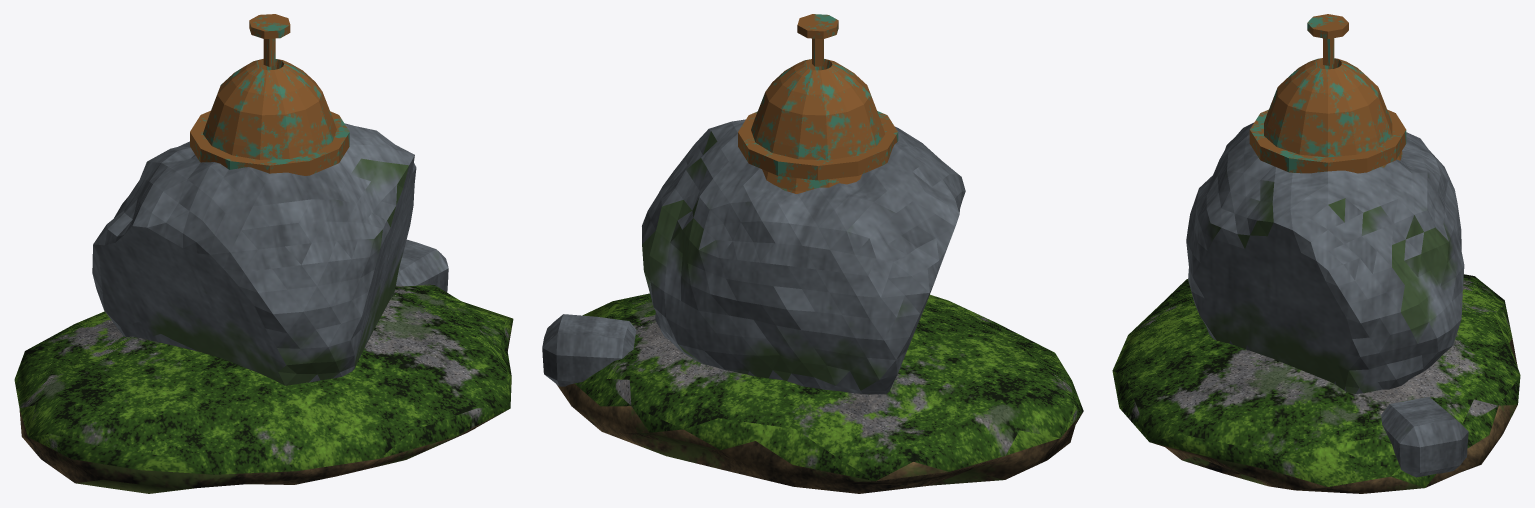
File: Bell_Grave_B.glb
3 renders of one model, left to right at view 1: azimuth 30°, elevation 25°; view 2: azimuth 150°, elevation 25°; view 3: azimuth 270°, elevation 25°, orthographic. The views are drawn at different scales.
Visible parts, largest first — view 1: Bell_Grave_B__Mound, Bell_Grave_B__Stone, Bell_Grave_B__Bronze; view 2: Bell_Grave_B__Stone, Bell_Grave_B__Mound, Bell_Grave_B__Bronze; view 3: Bell_Grave_B__Stone, Bell_Grave_B__Mound, Bell_Grave_B__Bronze.
Boxes of the visible parts, x1,y1,x2,y2 form: Bell_Grave_B__Mound: (14, 284, 513, 493); Bell_Grave_B__Stone: (92, 123, 448, 385); Bell_Grave_B__Bronze: (190, 14, 349, 175); Bell_Grave_B__Stone: (542, 119, 965, 394); Bell_Grave_B__Mound: (556, 293, 1083, 493); Bell_Grave_B__Bronze: (738, 14, 898, 193); Bell_Grave_B__Stone: (1186, 122, 1468, 477); Bell_Grave_B__Mound: (1112, 274, 1520, 493); Bell_Grave_B__Bronze: (1249, 14, 1406, 173).
Size of the model in its own units: 5.26 by 4.18 by 3.91.
3 materials, 3 textured.
